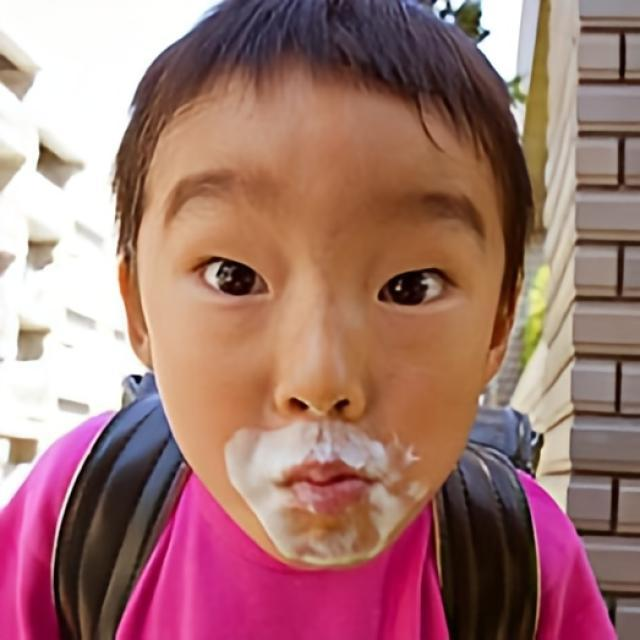surprise: (142, 56, 498, 574)
